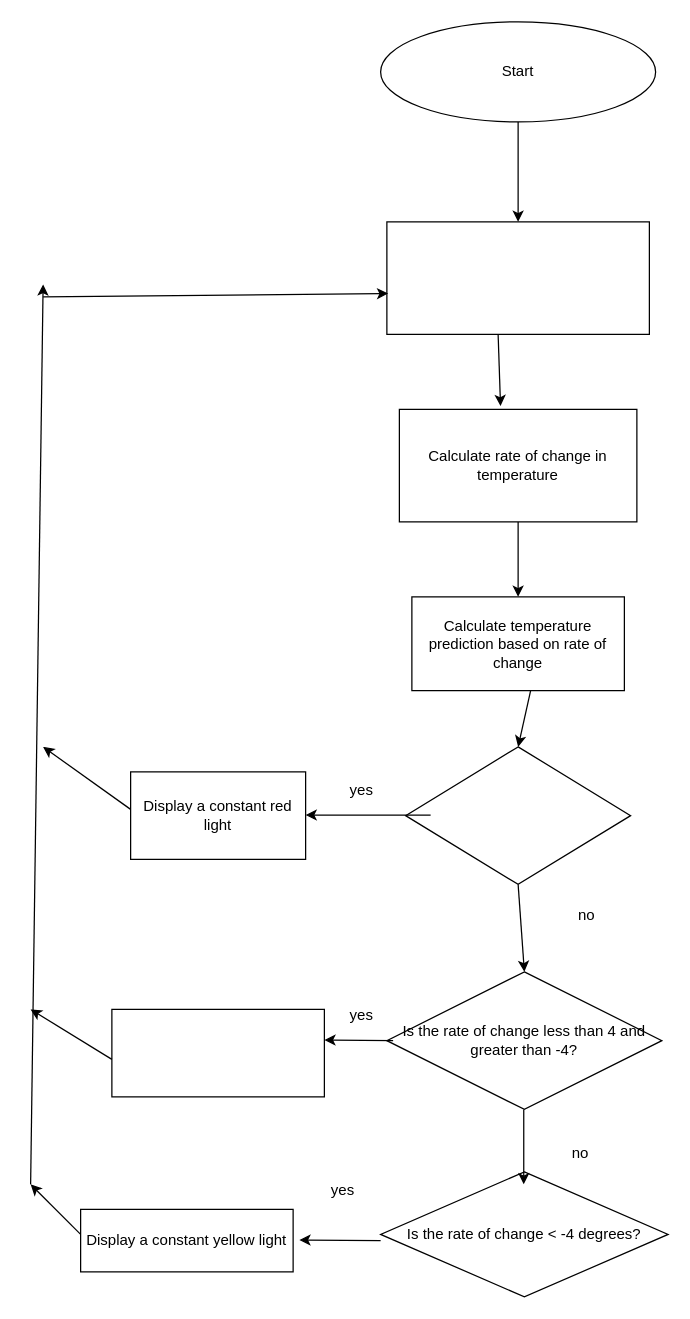
Image size: 690x1319. Some labels were removed from this diagram. Each missing label, with the centre of its shape:
Display a constant green light: the point at 217,1052
Is the rate of change > 4 degrees?: the point at 517,815
Read voltage and calculate temperature: the point at 517,277
